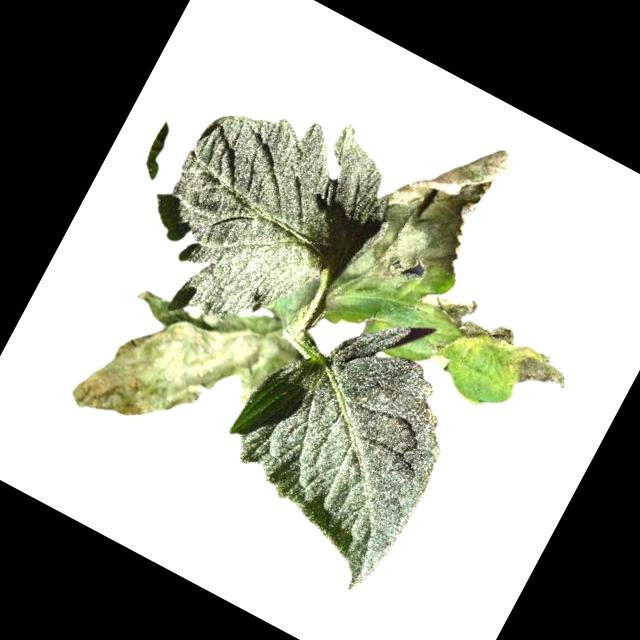Late_blight: (65, 251, 311, 489), (349, 110, 522, 316), (424, 283, 526, 365), (500, 337, 579, 406), (425, 330, 470, 376), (322, 282, 359, 319)
healthy: (188, 274, 491, 602), (110, 58, 416, 378)
